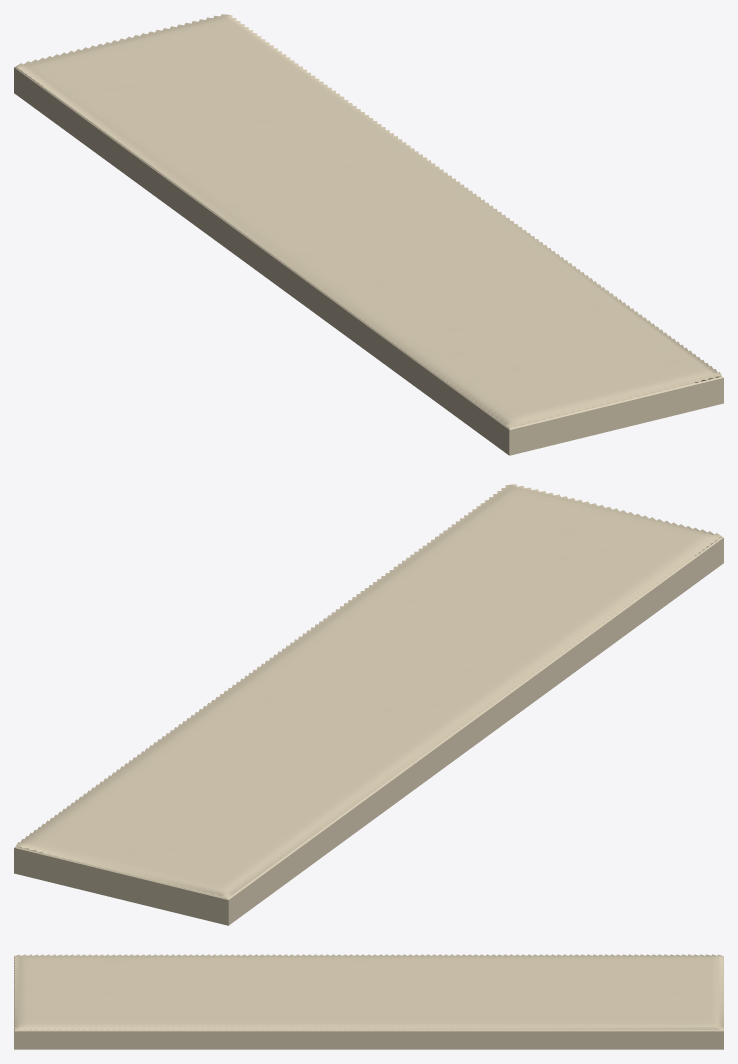
Rendered from mahsulot.glb.
3 views of the same model, one above another, from view 1: azimuth 30°, elevation 25°; view 2: azimuth 150°, elevation 25°; view 3: azimuth 270°, elevation 25° (orthographic). The views are drawn at different scales.
Visible parts, largest first — view 1: mahsulot; view 2: mahsulot; view 3: mahsulot.
Boxes of the visible parts, x1,y1,x2,y2 form: mahsulot: [14, 14, 723, 455]; mahsulot: [14, 484, 723, 925]; mahsulot: [14, 954, 723, 1049].
Bounding box in the file's own units: 0.3 × 0.0399 × 1.2.
